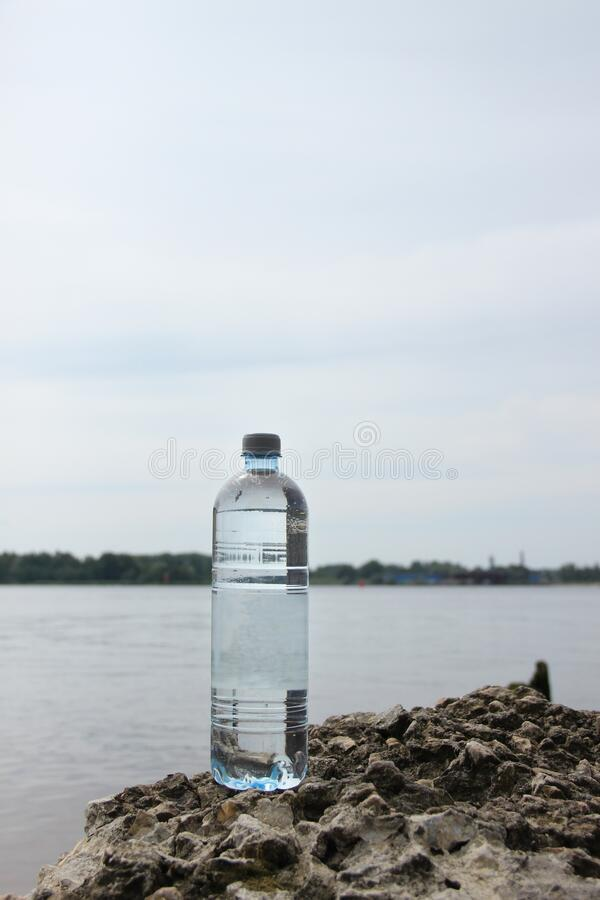bottle: (194, 414, 324, 803)
